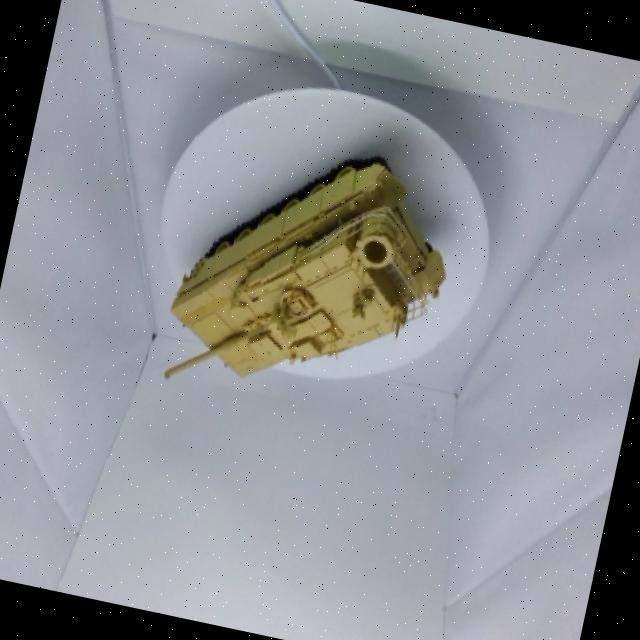korea tank: (122, 102, 476, 464)
